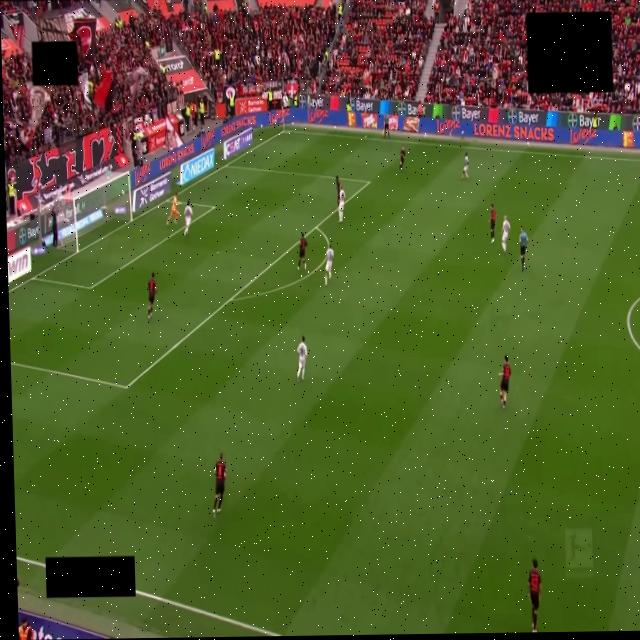player: (528, 559, 541, 631), (213, 453, 226, 516), (499, 356, 510, 408), (147, 272, 157, 319), (297, 337, 307, 381), (325, 244, 334, 285), (167, 195, 179, 225), (502, 216, 510, 252), (298, 234, 306, 270), (184, 201, 192, 235), (338, 187, 345, 223), (490, 204, 496, 243), (461, 153, 468, 178), (399, 147, 405, 171), (336, 176, 341, 204)
referee: (519, 228, 527, 271)
